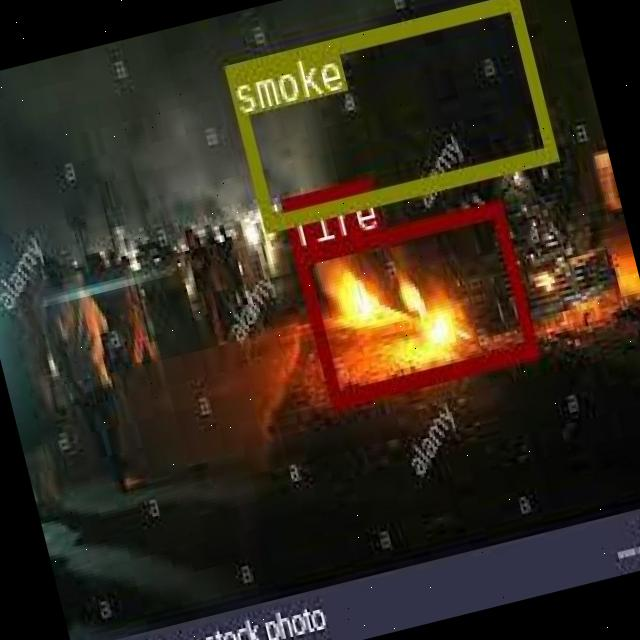fire: (291, 198, 536, 406)
smoke: (223, 0, 554, 228)
